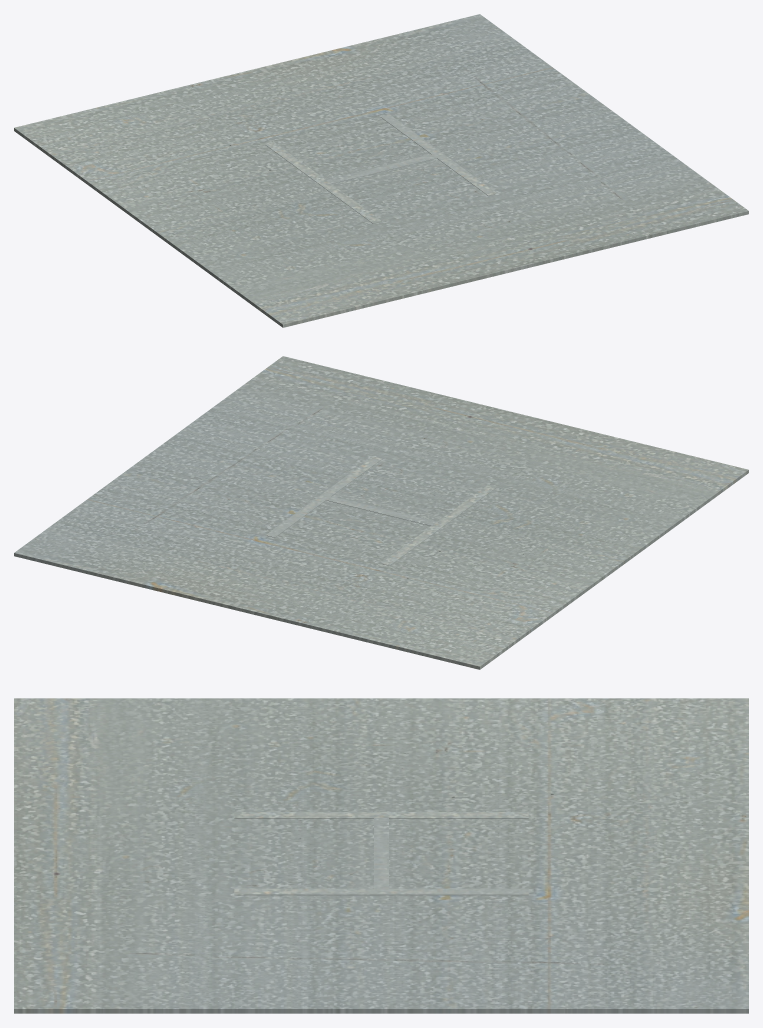
File: psp_helipad.glb
3 renders of one model, top to bottom at view 1: azimuth 30°, elevation 25°; view 2: azimuth 150°, elevation 25°; view 3: azimuth 270°, elevation 25°, orthographic. The views are drawn at different scales.
Parts seen in each view (by area): view 1: PSPHelipad-col; view 2: PSPHelipad-col; view 3: PSPHelipad-col.
Part boxes in pixels (bbox=[...]): PSPHelipad-col: bbox=[14, 14, 748, 327]; PSPHelipad-col: bbox=[14, 356, 748, 669]; PSPHelipad-col: bbox=[14, 698, 748, 1013].
Bounding box in the file's own units: 15 × 0.11 × 15.
Materials: 1 (1 with a texture image).
